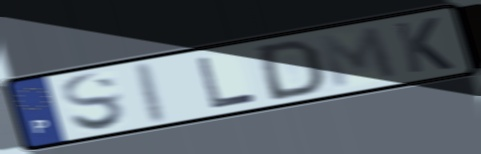D: (256, 37, 326, 103)
I: (135, 59, 172, 127)
K: (391, 15, 457, 76)
L: (193, 55, 260, 111)
M: (315, 23, 403, 92)
S: (59, 70, 129, 132)
